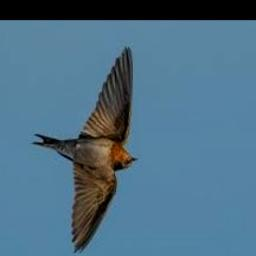Swallow: (33, 46, 139, 255)
